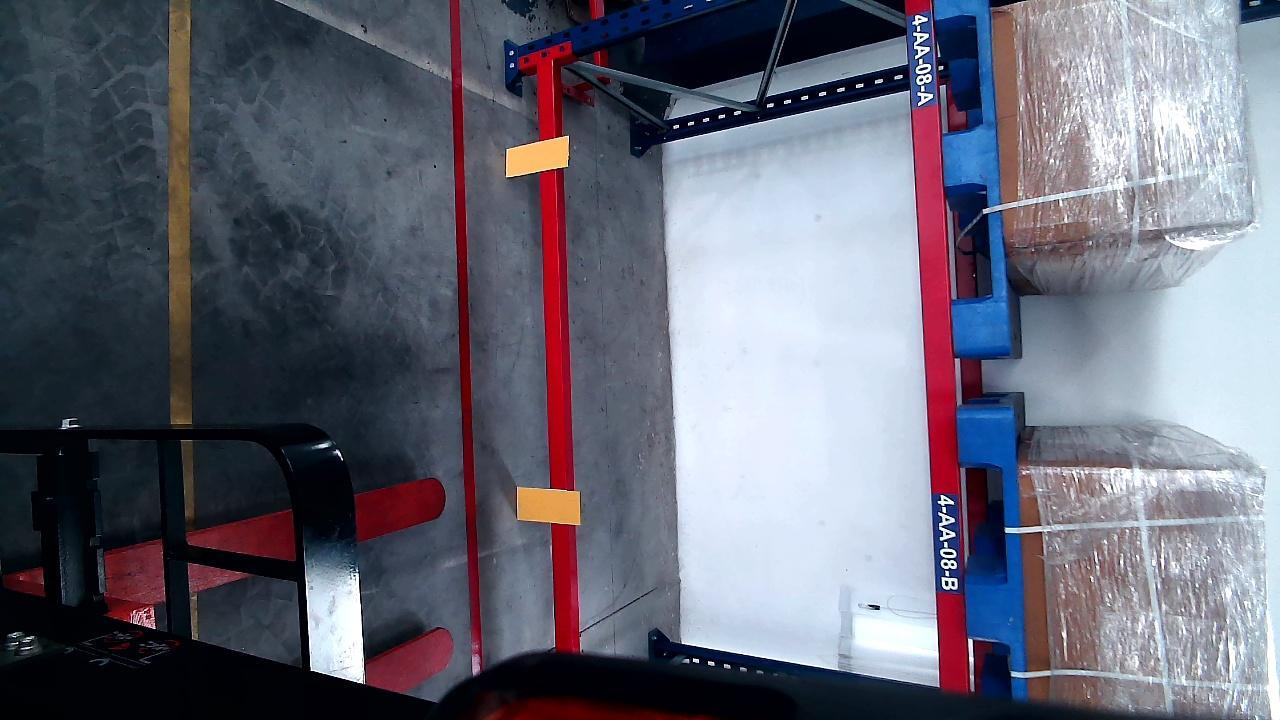red_line: (447, 5, 477, 674)
yellow_line: (166, 0, 194, 425)
